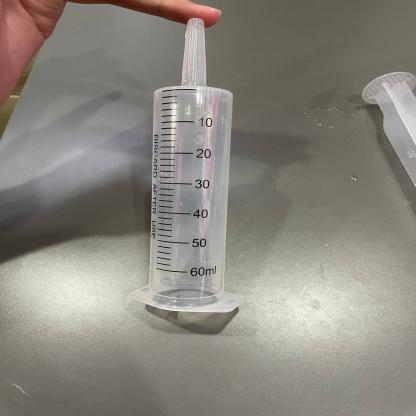wet: (122, 16, 256, 322)
